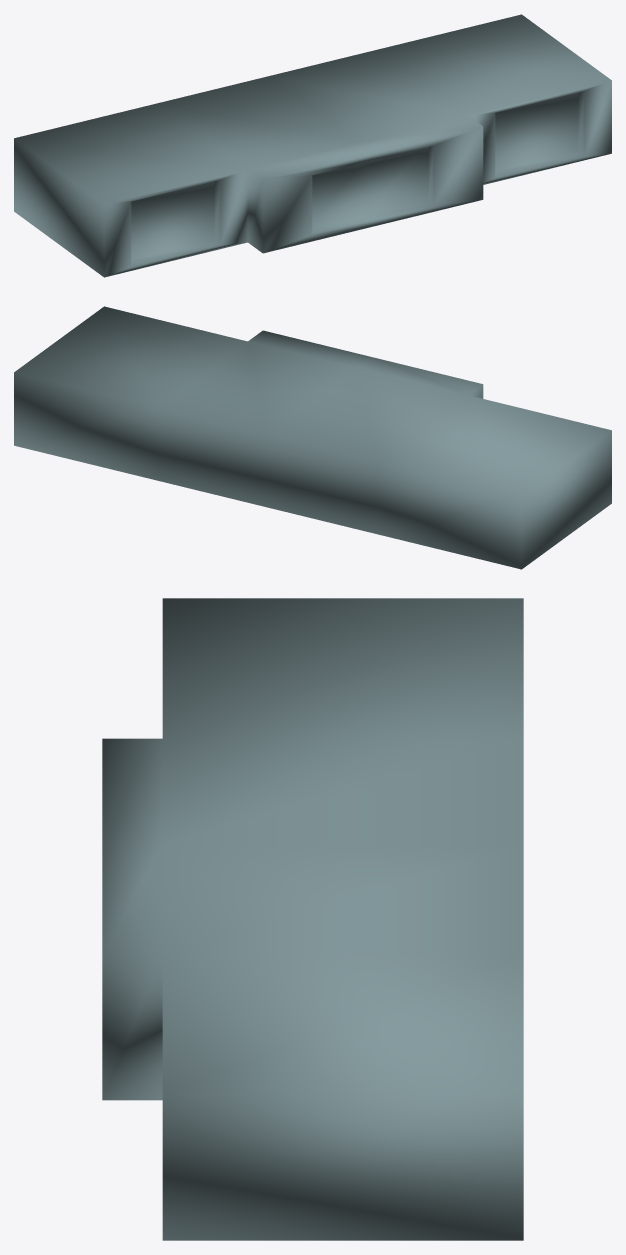
File: Entertainment_System.glb
3 renders of one model, top to bottom at view 1: azimuth 30°, elevation 25°; view 2: azimuth 150°, elevation 25°; view 3: azimuth 270°, elevation 25°, orthographic. The views are drawn at different scales.
Parts seen in each view (by area): view 1: Cube.011; view 2: Cube.011; view 3: Cube.011.
Part boxes in pixels (x1,y1,x2,y2): Cube.011: [14, 14, 611, 277]; Cube.011: [14, 306, 611, 569]; Cube.011: [102, 598, 523, 1240].
Bounding box in the file's own units: 3.03 × 0.4175 × 1.09.
